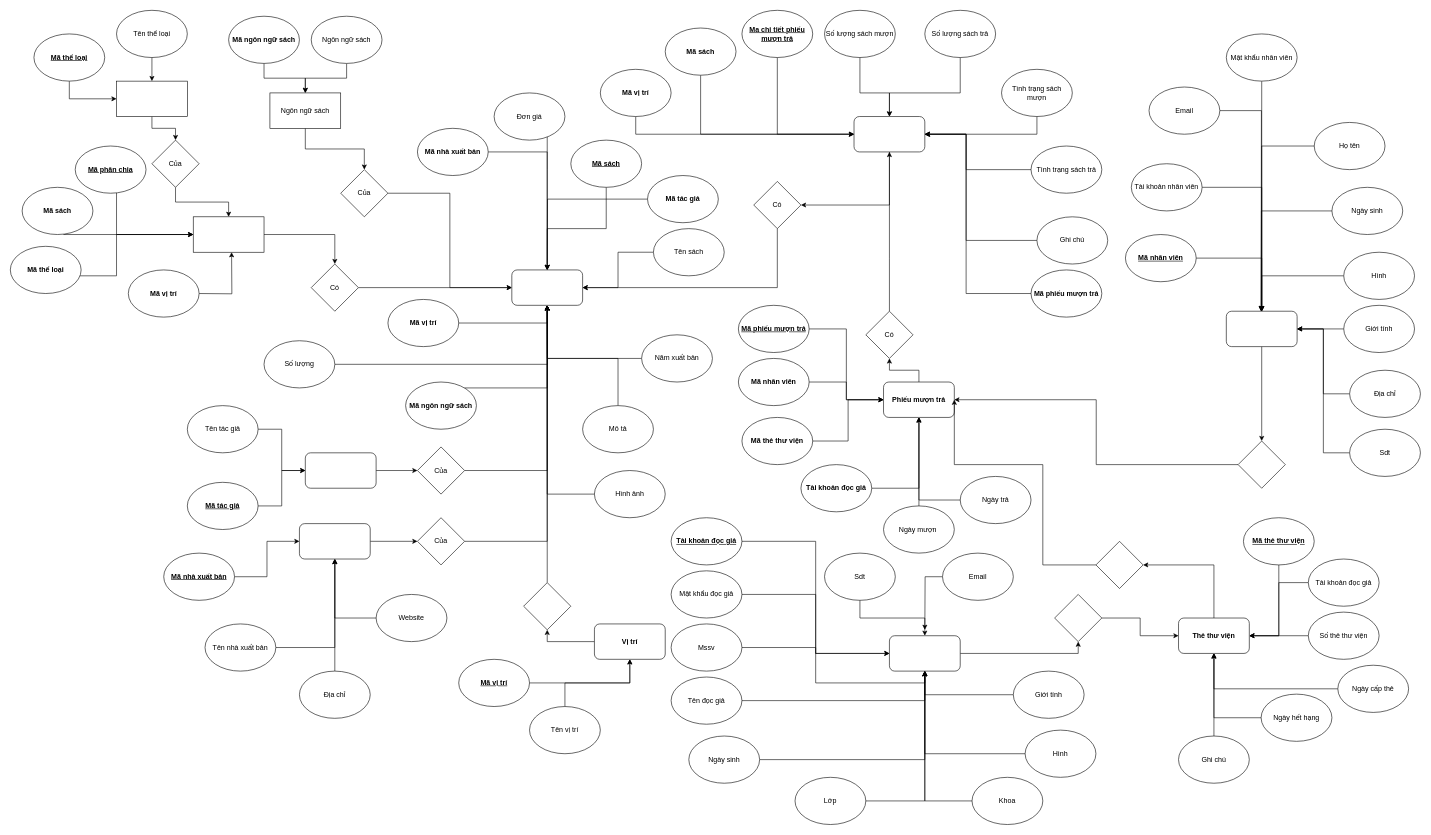
Some shapes in this 1431 by 835 pixel diagram are drawn without their labels. The centre of each missing label's shape, as x and y in pixels:
"Chi tiết phiếu mượn trả" belongs at pixel 889 134.
"Mượn trả" belongs at pixel 1119 565.
"Nhà xuất bản" belongs at pixel 334 541.
"Nhân viên" belongs at pixel 1261 329.
"Nhận" belongs at pixel 1078 618.
"Phân chia" belongs at pixel 228 234.
"Quản lý" belongs at pixel 1261 464.
"Sách" belongs at pixel 547 287.
"Thể loại" belongs at pixel 151 99.
"Tác giả" belongs at pixel 340 470.
"Đặt" belongs at pixel 547 606.
"Đọc giả" belongs at pixel 924 653.
